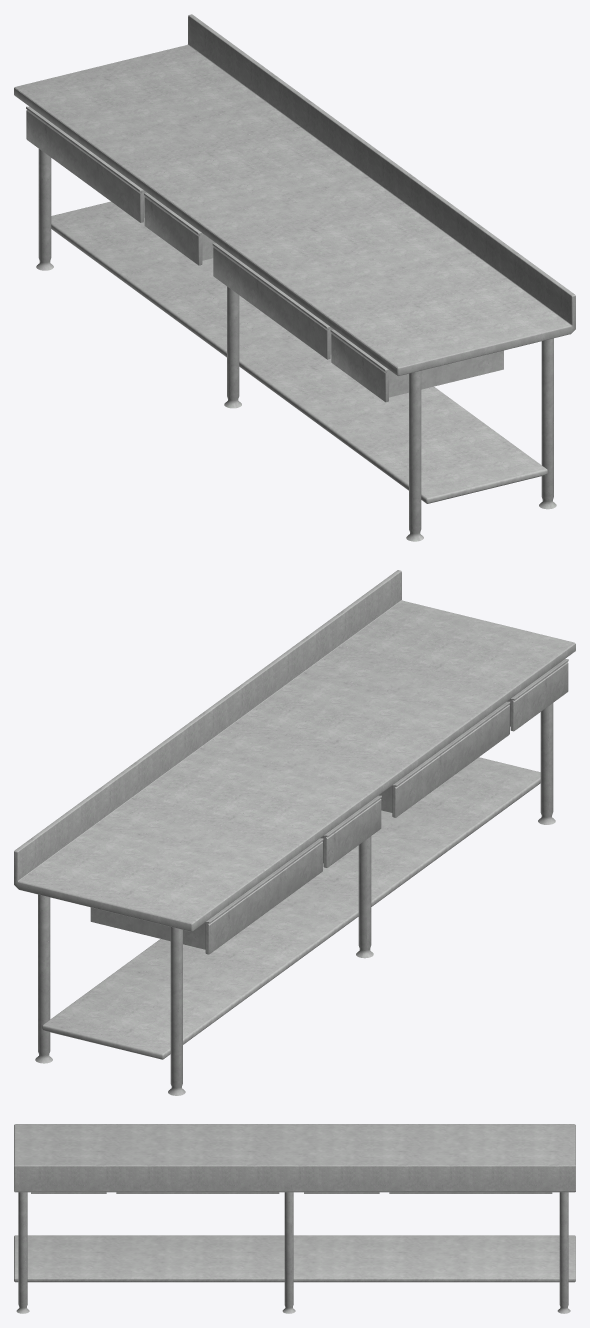
Rendered from ComWorkTable02.FBX.
The picture shows the model from 3 angles, top to bottom: view 1: azimuth 30°, elevation 25°; view 2: azimuth 150°, elevation 25°; view 3: azimuth 270°, elevation 25°; orthographic projection. The views are drawn at different scales.
Visible parts, largest first — view 1: ComWorkTable02; view 2: ComWorkTable02; view 3: ComWorkTable02.
Boxes of the visible parts, left/top/right/bottom form: ComWorkTable02: left=14, top=14, right=575, bottom=541; ComWorkTable02: left=14, top=570, right=575, bottom=1095; ComWorkTable02: left=14, top=1124, right=575, bottom=1313.
Bounding box in the file's own units: 85.52 × 94.44 × 314.
